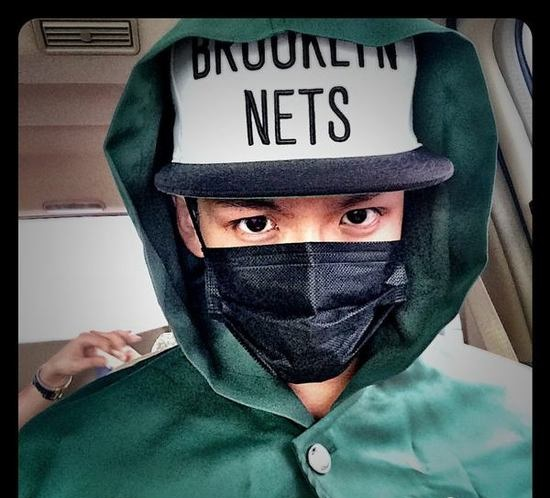face_mask: (202, 170, 401, 382)
